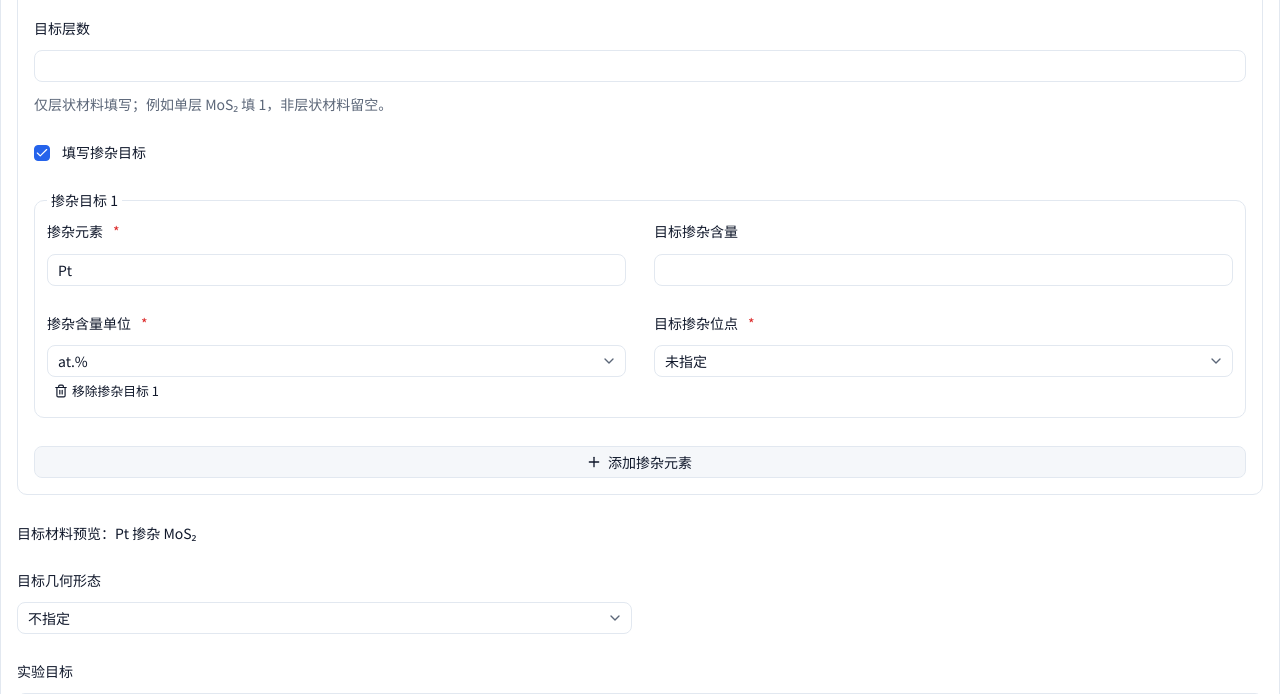
simple target phase editing › groups substitutional and non-substitutional dopant sites
(page scrolled)
Expected: the text "目标层数" is shown, [34,18,90,38]
Click the dropdown named "目标掺杂位点": coordinates (686, 361) [654,345,1233,377]
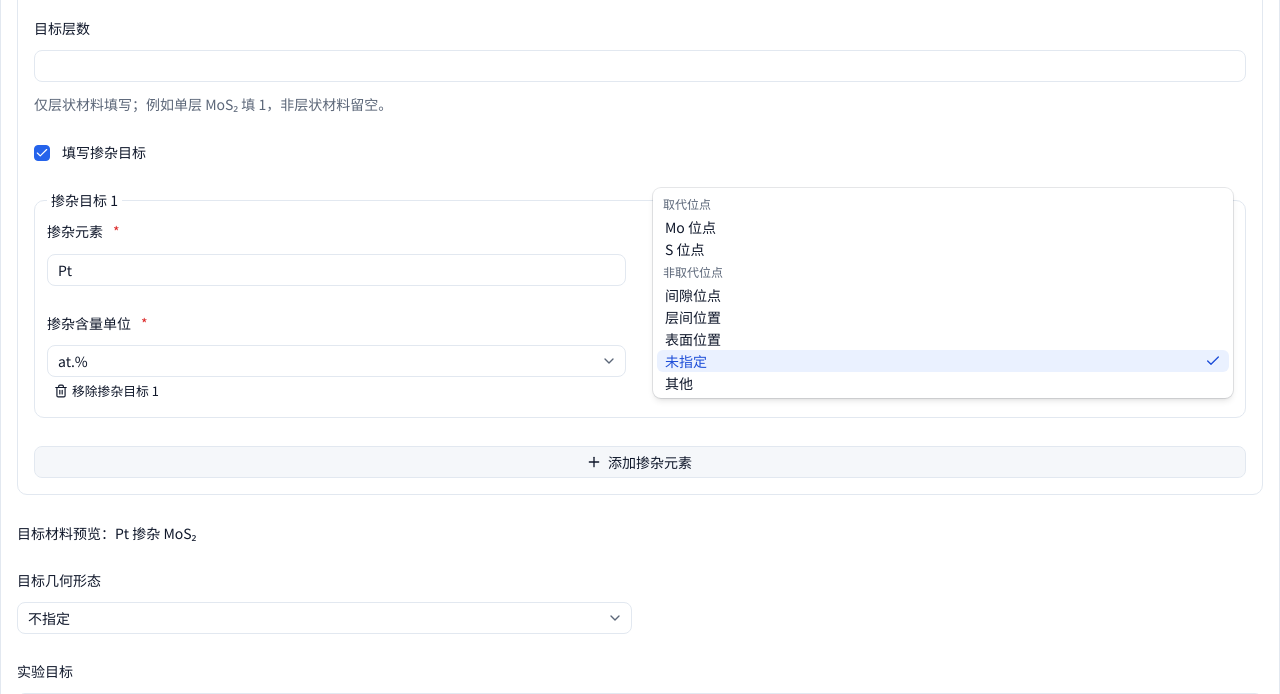
Now the text "取代位点" is shown, box [663,195,711,212]
Now the text "非取代位点" is shown, box [663,263,723,280]
Now the option "Mo 位点" is shown, box [665,217,716,237]
